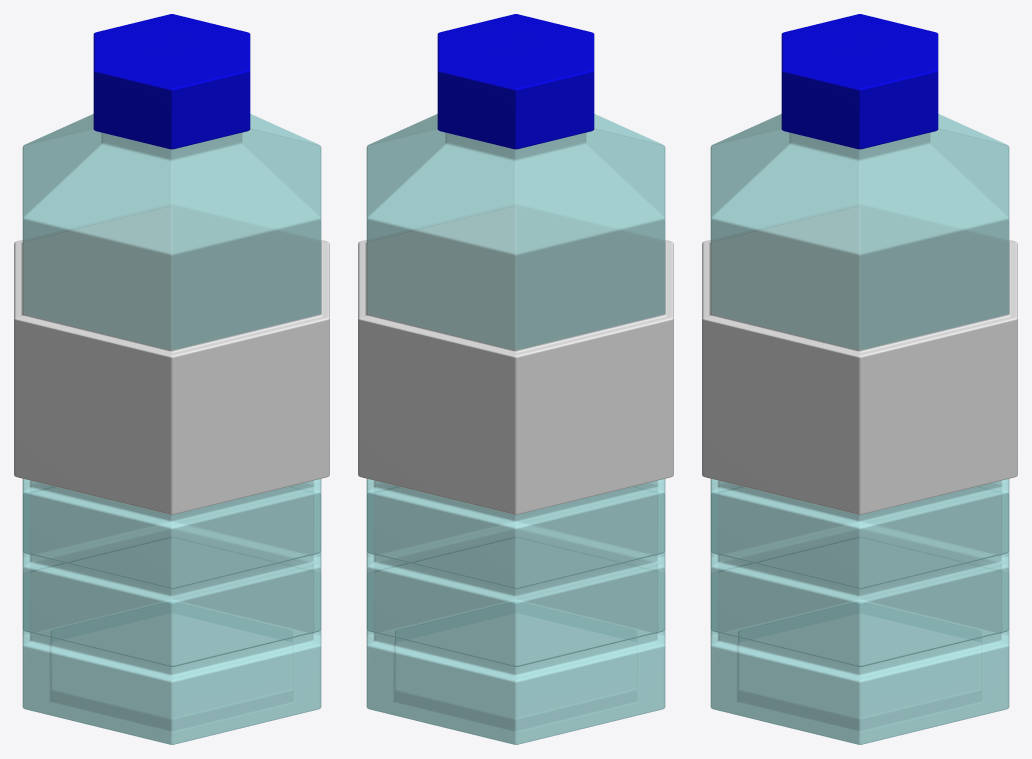
The model's file is Bottle.fbx.
3 renders of one model, left to right at view 1: azimuth 30°, elevation 25°; view 2: azimuth 150°, elevation 25°; view 3: azimuth 270°, elevation 25°, orthographic.
Parts seen in each view (by area): view 1: pCylinder1; view 2: pCylinder1; view 3: pCylinder1.
Part boxes in pixels (x1,y1,x2,y2): pCylinder1: (14, 14, 329, 744); pCylinder1: (358, 14, 673, 744); pCylinder1: (702, 14, 1017, 744).
Bounding box in the file's own units: 2.11 × 3.98 × 1.83.
